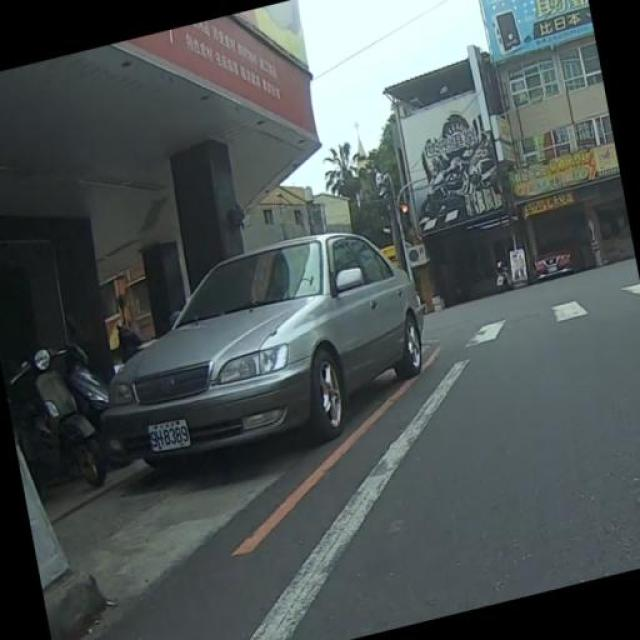illegalparking: (26, 188, 443, 538)
